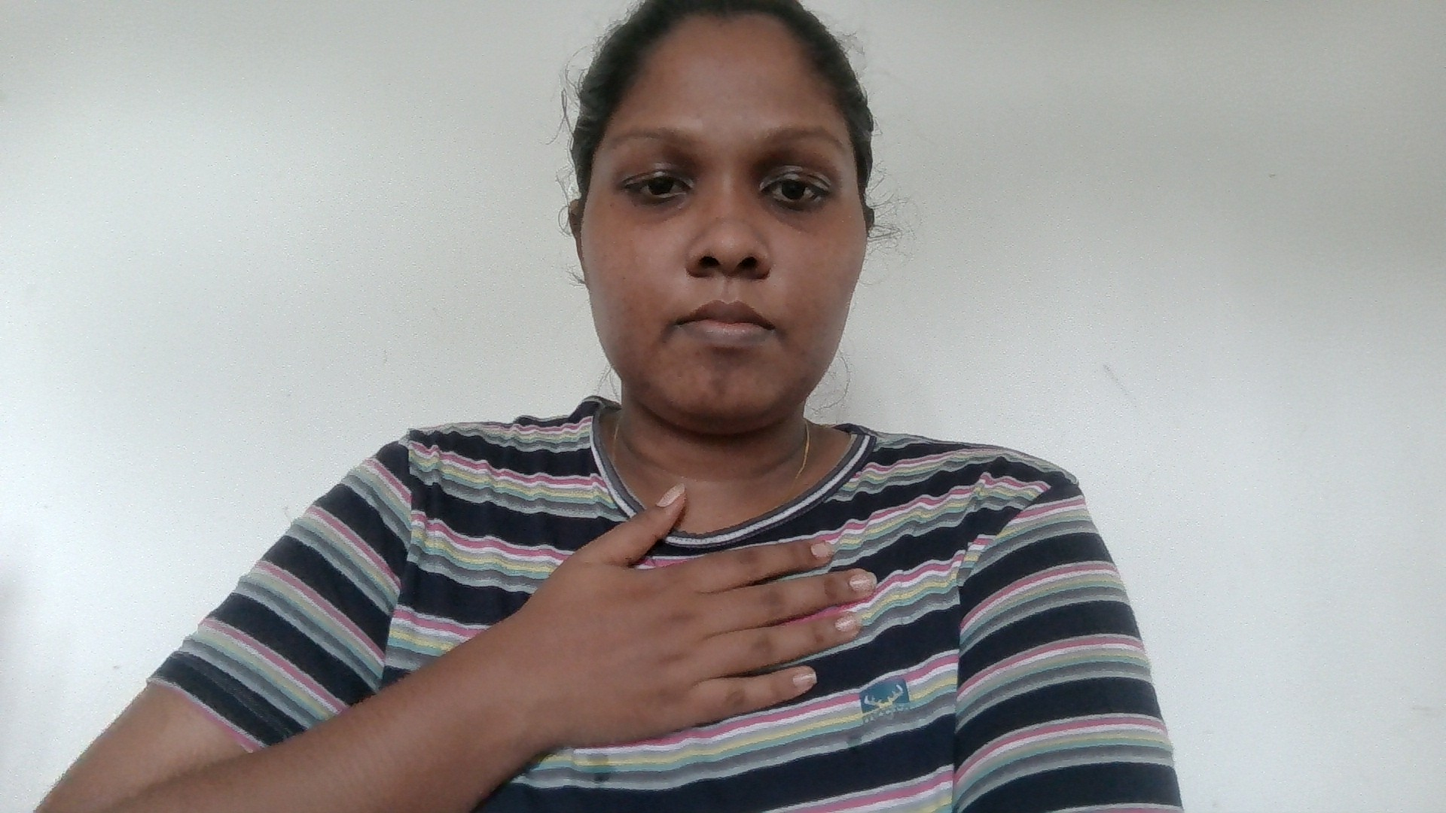Please: (454, 482, 907, 742)
